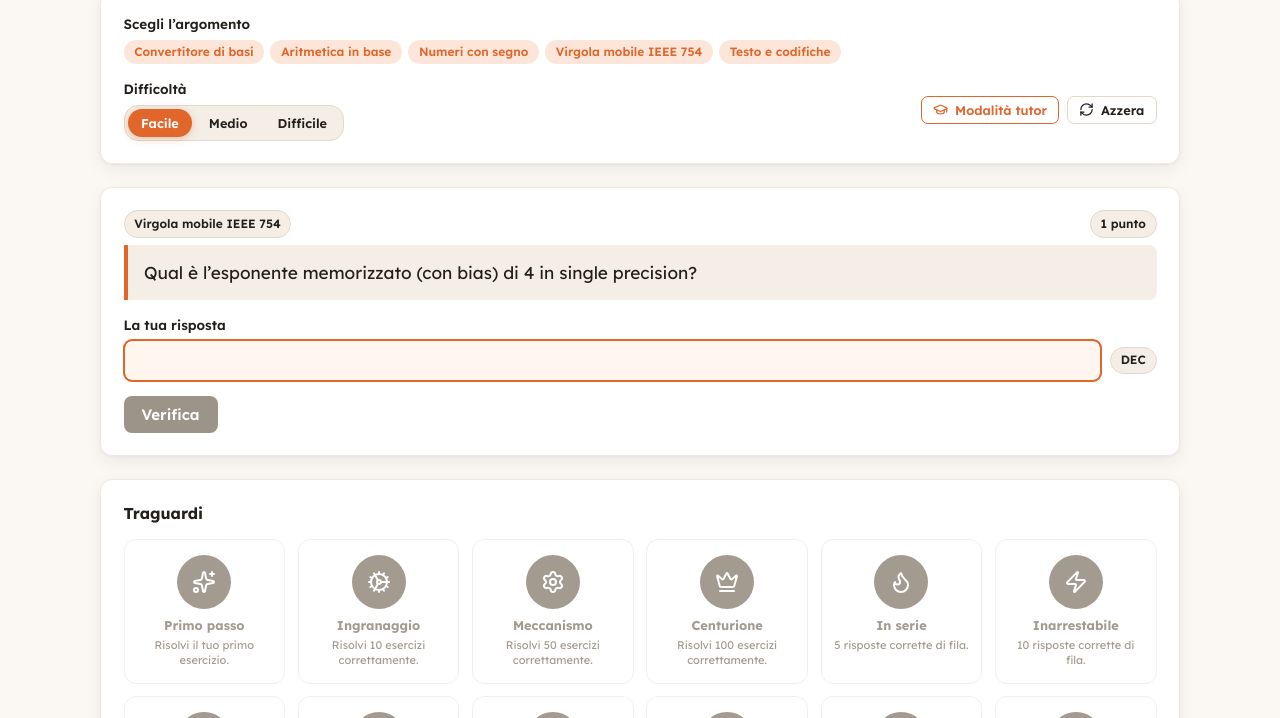
Scenario: Palestra — comportamento › mostra un esercizio e accetta una risposta
The image size is (1280, 718).
(page scrolled)
Step 1. Type "qualcosa" into the field labelled "La tua risposta" → [612, 360], box [124,340,1101,381]
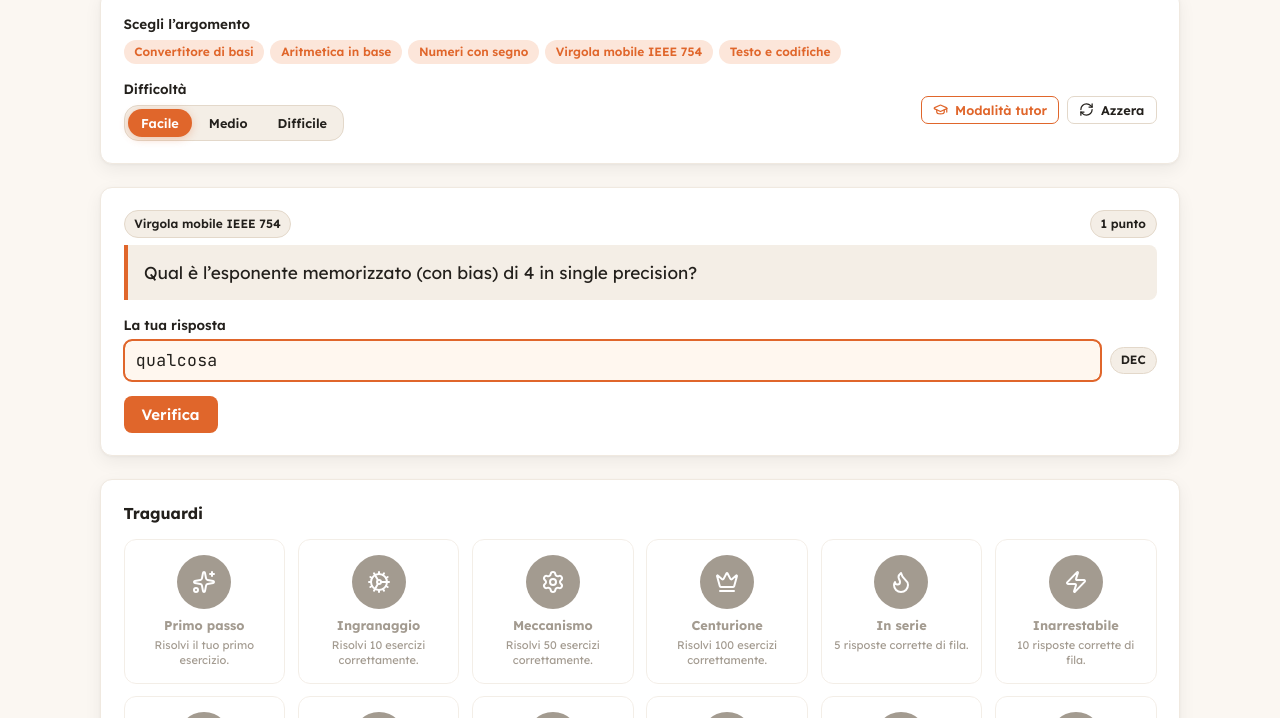
Step 2. Click the button "Verifica" → [171, 414], box [124,396,218,433]
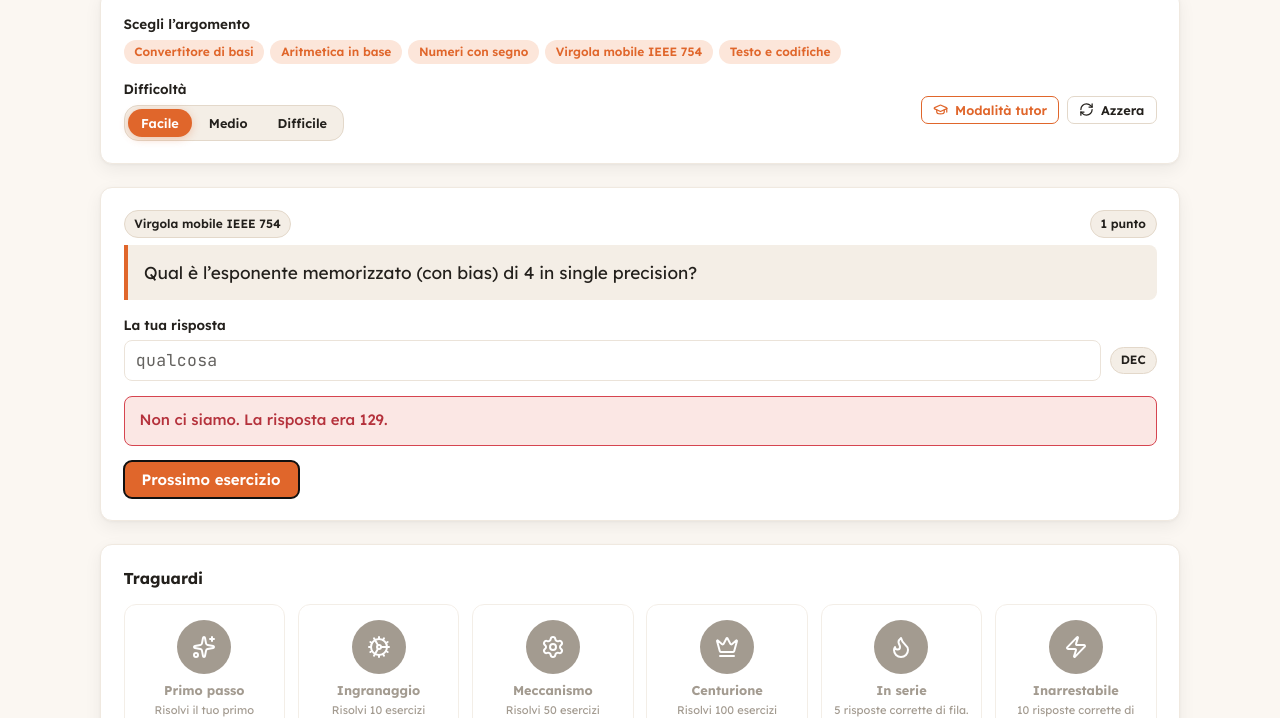
Now the button "Prossimo esercizio" is shown, box [124,461,299,498]
